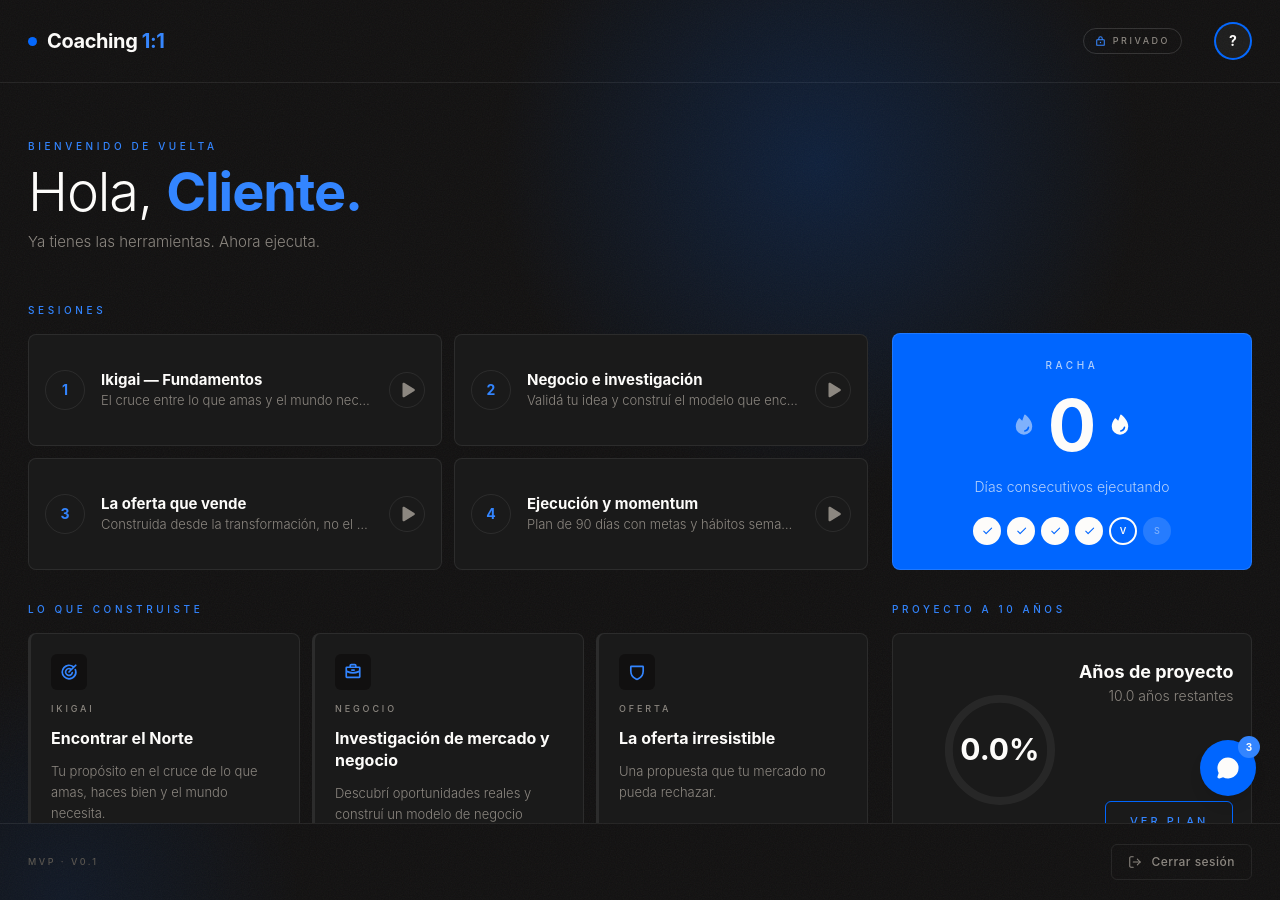
Test case: DashboardPage (new) › shows logout overlay when logout clicked
Click the button "Cerrar sesión".
click(1182, 862)  # box [1111,844,1252,880]
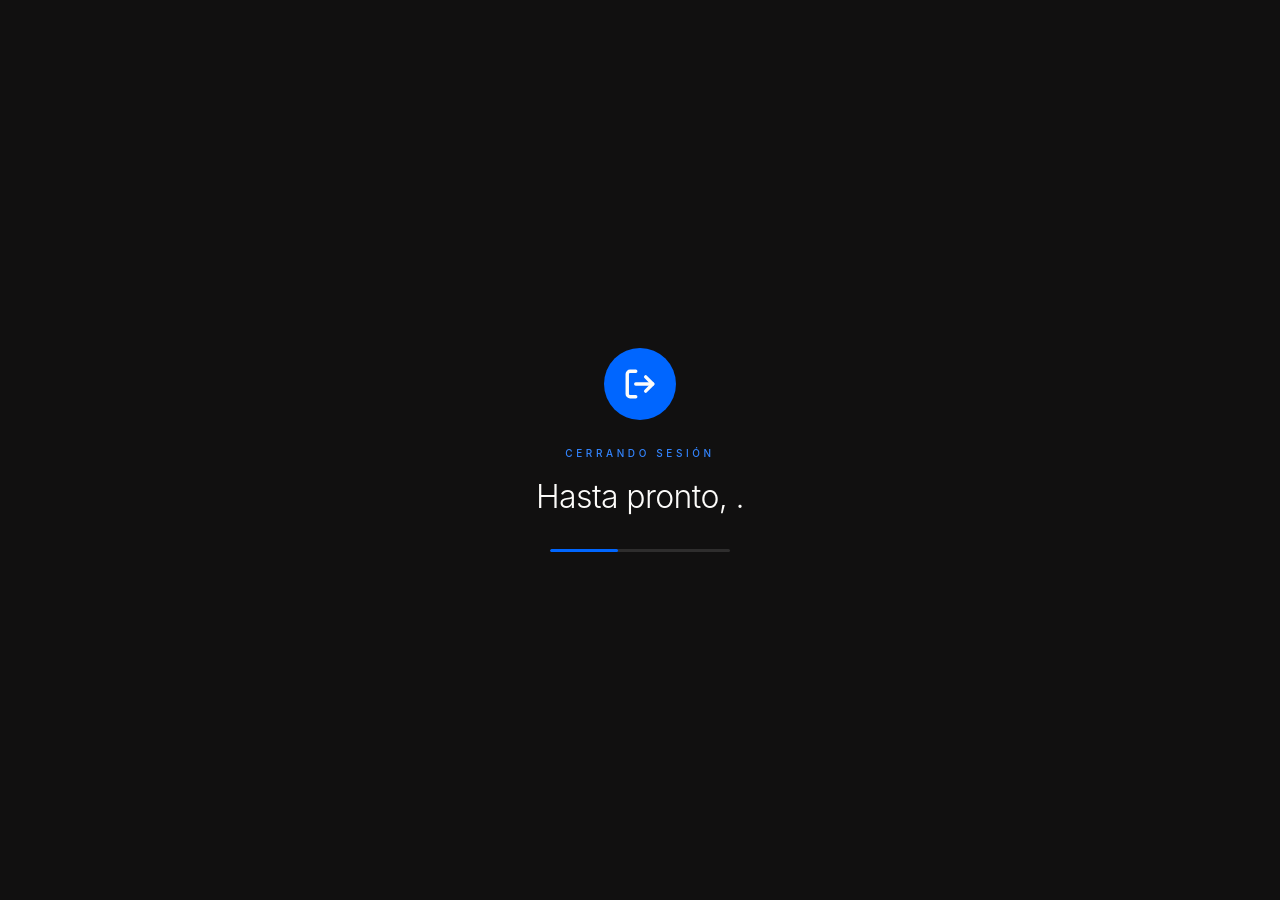
Expected: the text "Cerrando sesión" is shown, [565,446,715,461]
Expected: the heading "Hasta pronto, ." is shown, [536,473,744,521]
